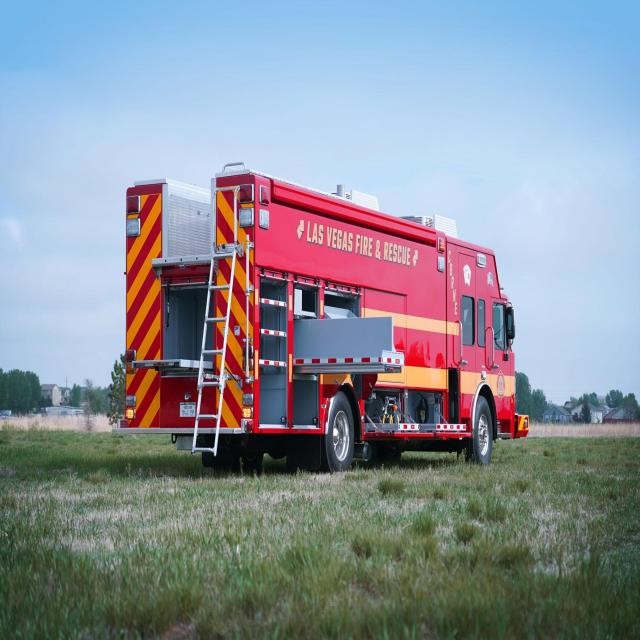truck: (125, 161, 522, 469)
